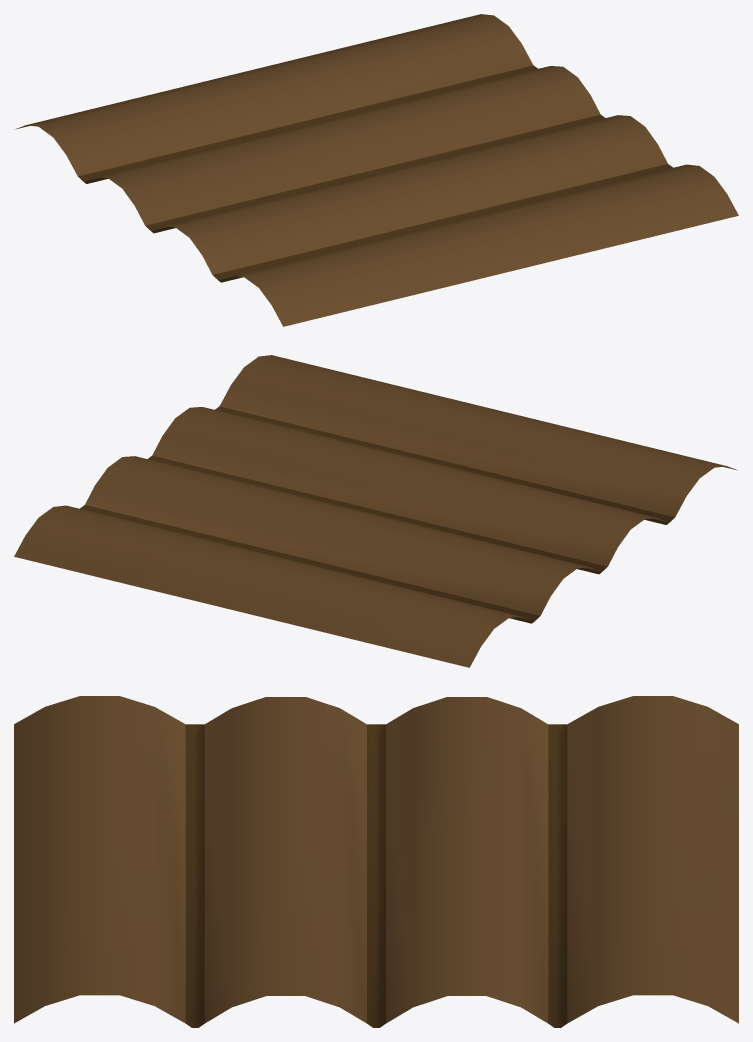
The model's file is Soil.fbx.
3 views of the same model, one above another, from view 1: azimuth 30°, elevation 25°; view 2: azimuth 150°, elevation 25°; view 3: azimuth 270°, elevation 25° (orthographic). The views are drawn at different scales.
Visible parts, largest first — view 1: Plane; view 2: Plane; view 3: Plane.
Boxes of the visible parts, x1,y1,x2,y2 form: Plane: [15, 14, 738, 326]; Plane: [14, 355, 737, 667]; Plane: [14, 696, 738, 1027].
Size of the model in its own units: 254 by 13.98 by 260.
